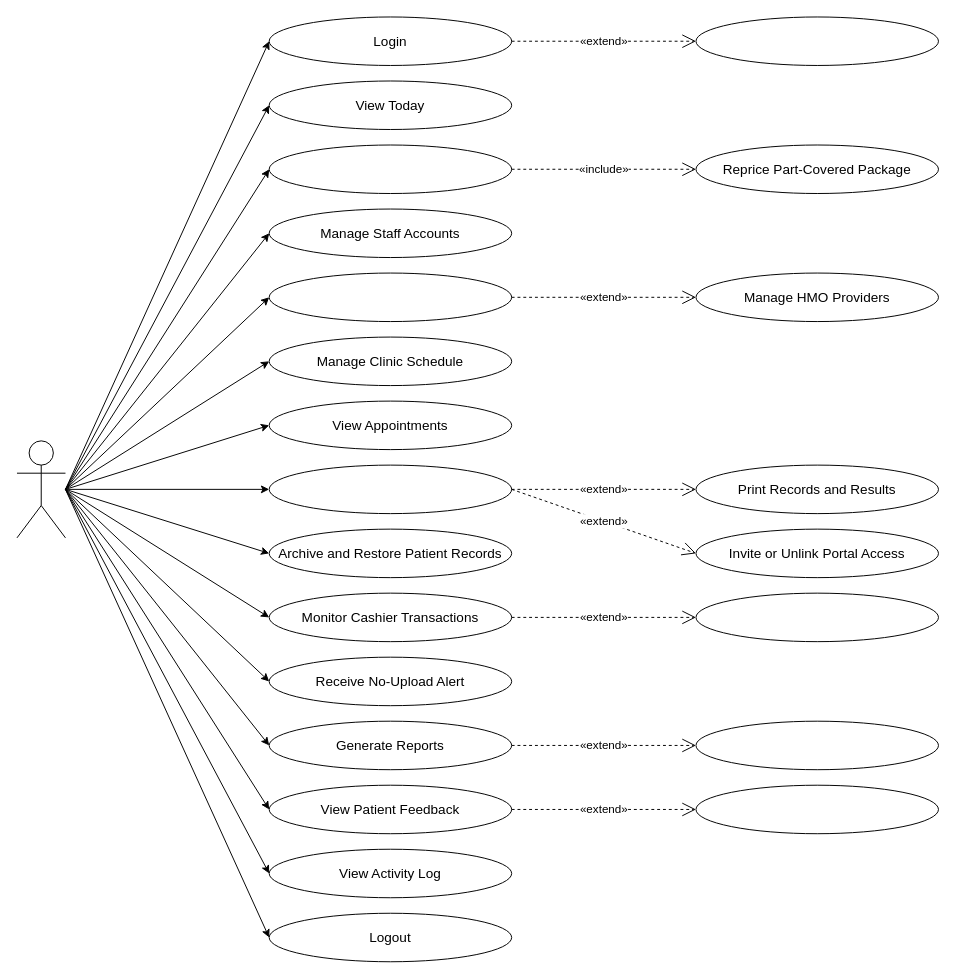
Image size: 955x979. Some labels were removed from this diagram. Here are the shapes that lost their labels. From the top down, the box of each, then its label:
(695, 16, 938, 65): Reset Forgotten Password
(268, 144, 512, 194): Decide HMO Claims
(268, 272, 512, 322): Manage Services, Packages and Pricing
(16, 440, 65, 538): Admin
(268, 464, 512, 514): Manage Patient Records
(695, 592, 938, 642): View Daily Cash Counts
(695, 720, 938, 770): Print or Export Report
(695, 784, 938, 834): Manage Feedback Questions
